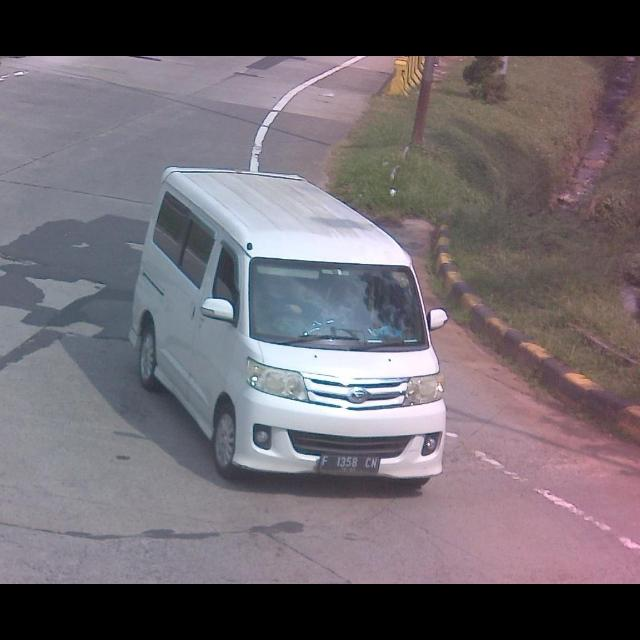plate: (319, 454, 379, 475)
